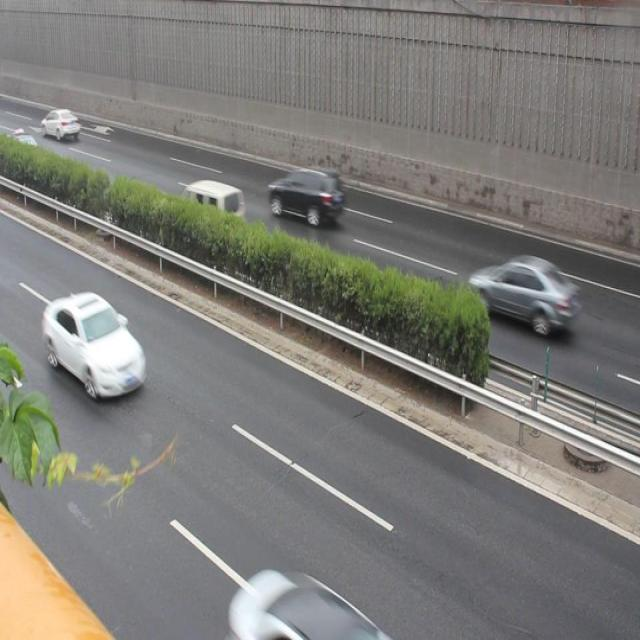car: (225, 566, 386, 640), (42, 289, 147, 398), (467, 254, 578, 337), (268, 166, 345, 230)
truck: (178, 179, 248, 252)
